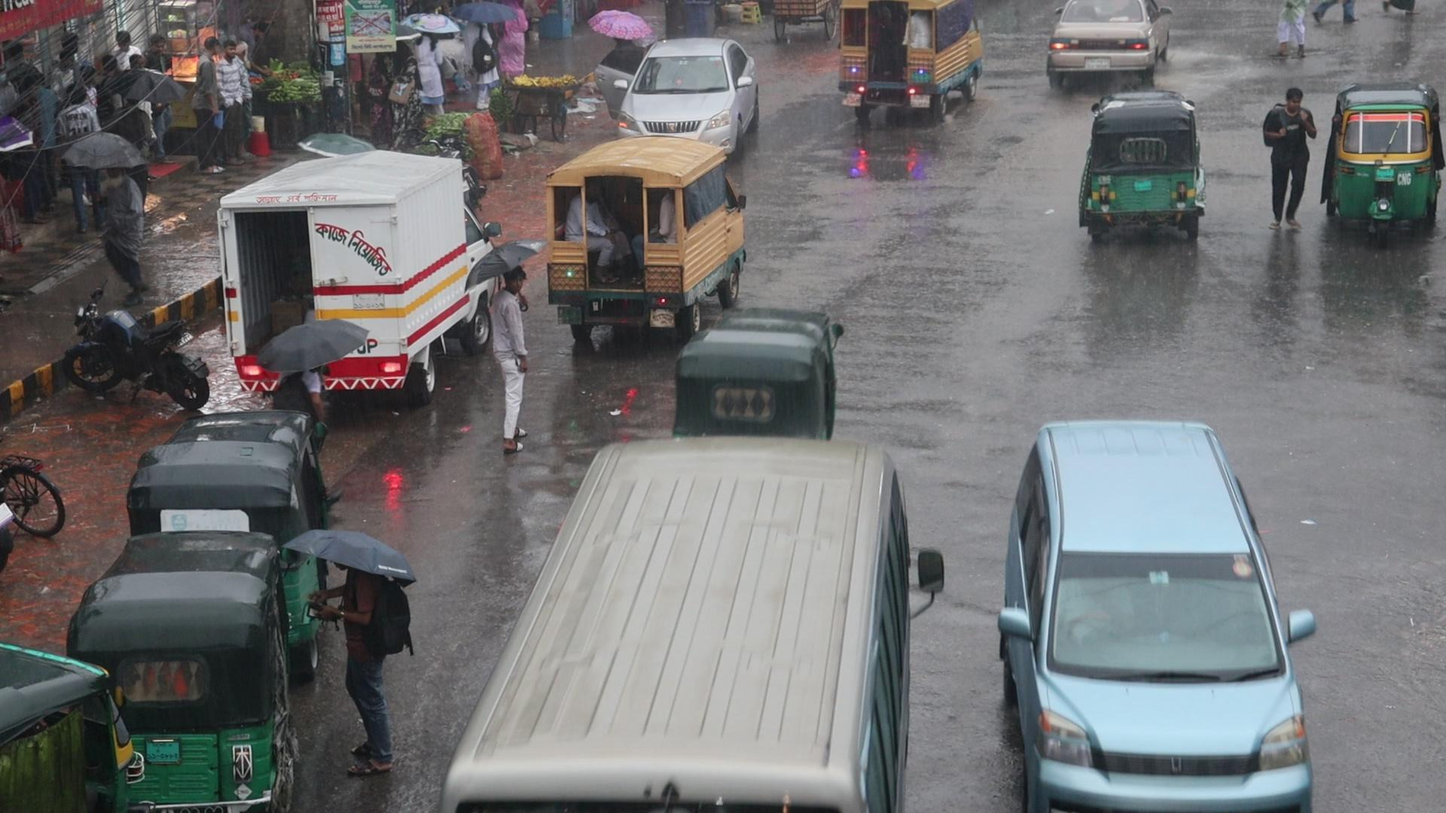Bus: (444, 432, 946, 813)
Car: (999, 421, 1313, 813), (617, 38, 762, 142), (1046, 0, 1170, 90)
Truck: (542, 139, 746, 311), (837, 0, 983, 120)
